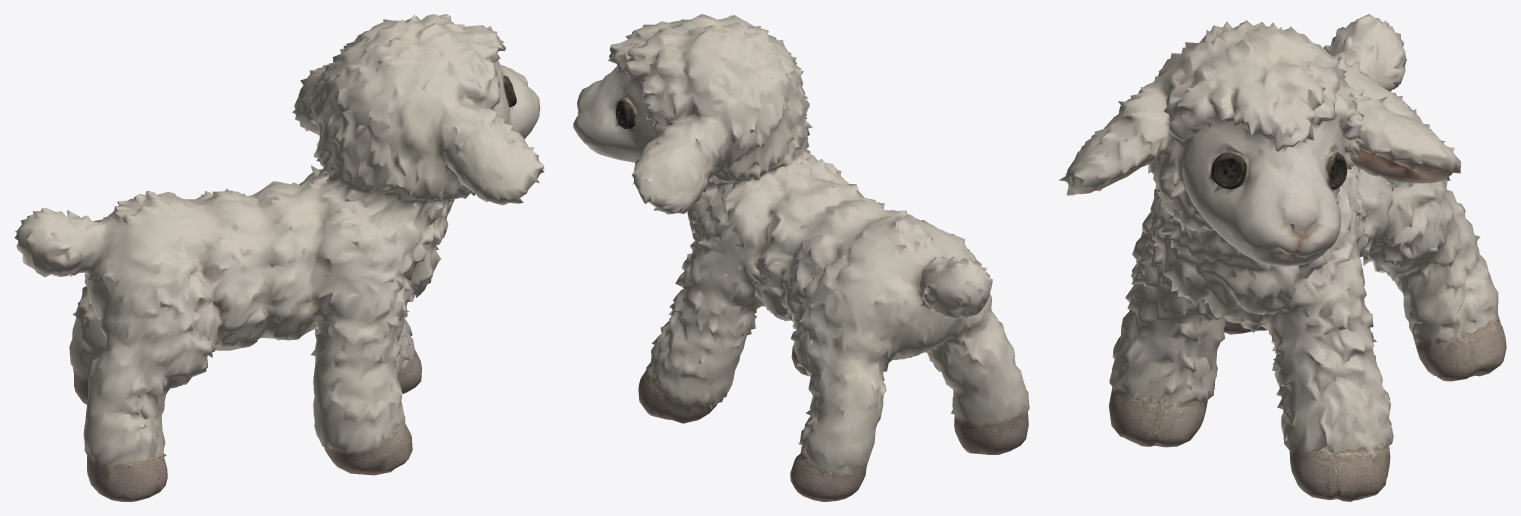
Rendered from ts_lamb.glb.
3 renders of one model, left to right at view 1: azimuth 30°, elevation 25°; view 2: azimuth 150°, elevation 25°; view 3: azimuth 270°, elevation 25°, orthographic. The views are drawn at different scales.
Parts seen in each view (by area): view 1: tripo_node_7b1bebed-35b8-42be-8191-f8308adc035c; view 2: tripo_node_7b1bebed-35b8-42be-8191-f8308adc035c; view 3: tripo_node_7b1bebed-35b8-42be-8191-f8308adc035c.
Boxes of the visible parts, x1,y1,x2,y2 form: tripo_node_7b1bebed-35b8-42be-8191-f8308adc035c: (14,14,544,501); tripo_node_7b1bebed-35b8-42be-8191-f8308adc035c: (573,14,1029,501); tripo_node_7b1bebed-35b8-42be-8191-f8308adc035c: (1059,14,1506,501).
Size of the model in its own units: 1 by 0.7881 by 0.6951.
1 material, 1 textured.
